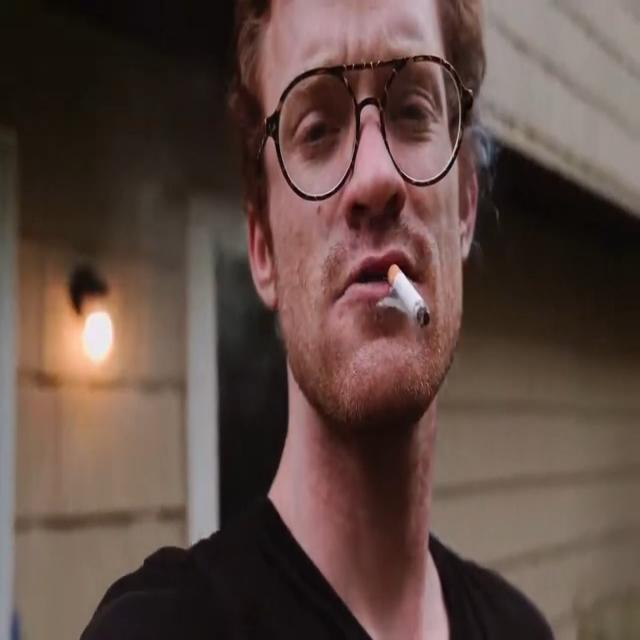Курение: (382, 255, 436, 336)
